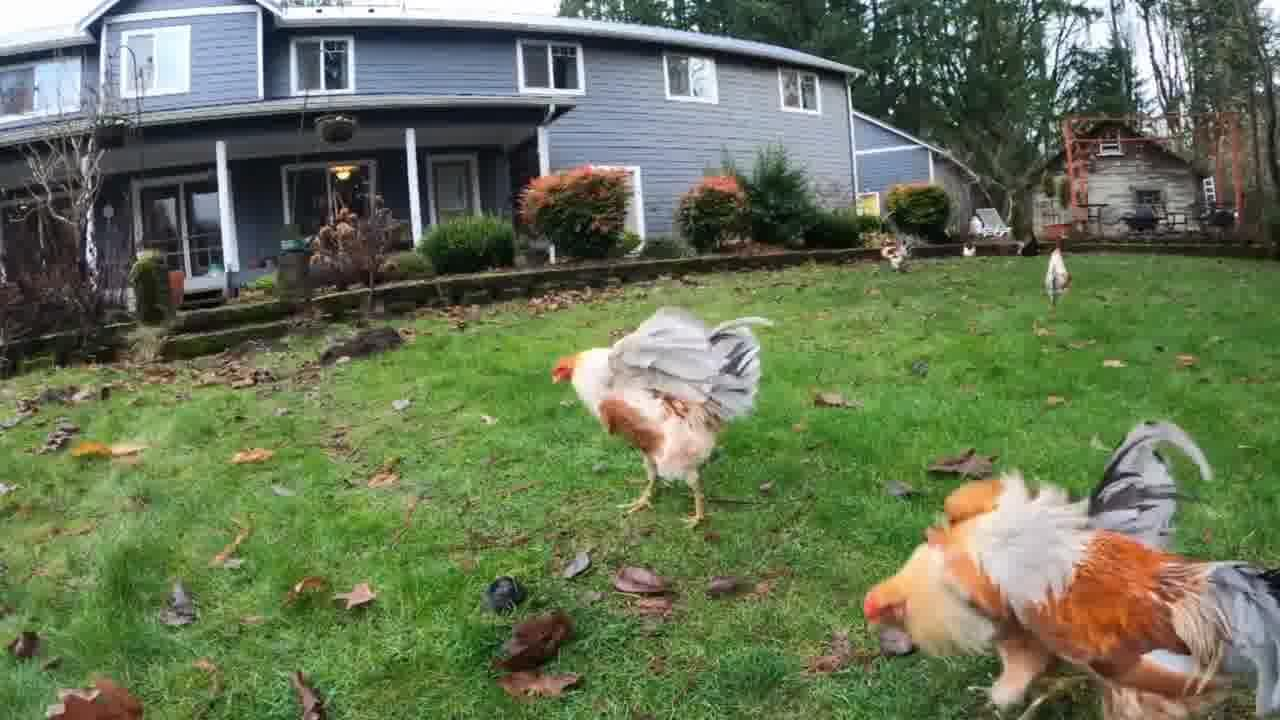Normal: (842, 422, 1280, 720), (550, 294, 806, 526)
